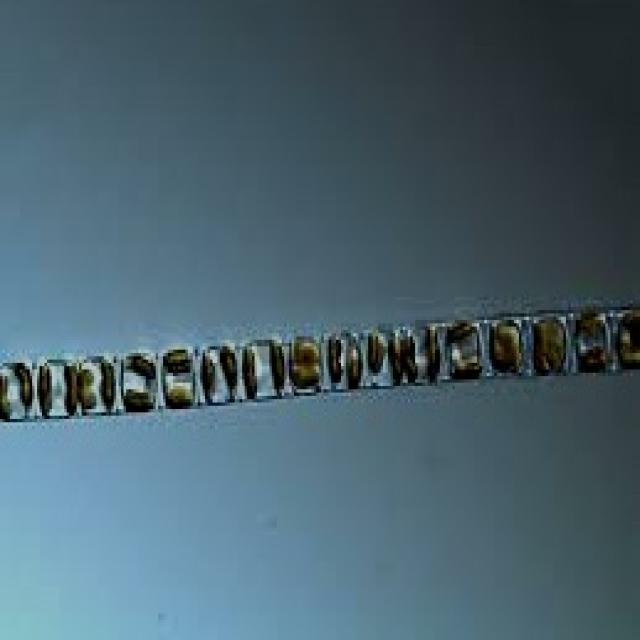Skeletonema: (1, 304, 640, 444)
